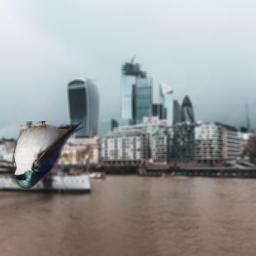Swallow: (9, 121, 84, 190)
